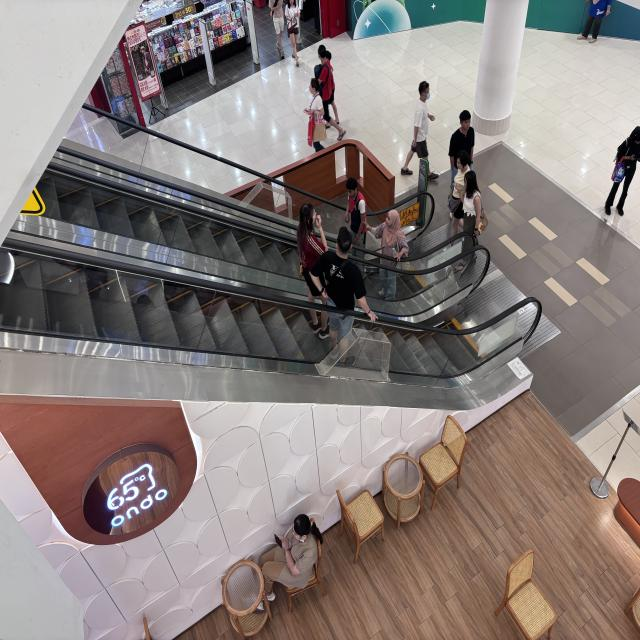escalator: (0, 150, 576, 404), (9, 94, 509, 321)
